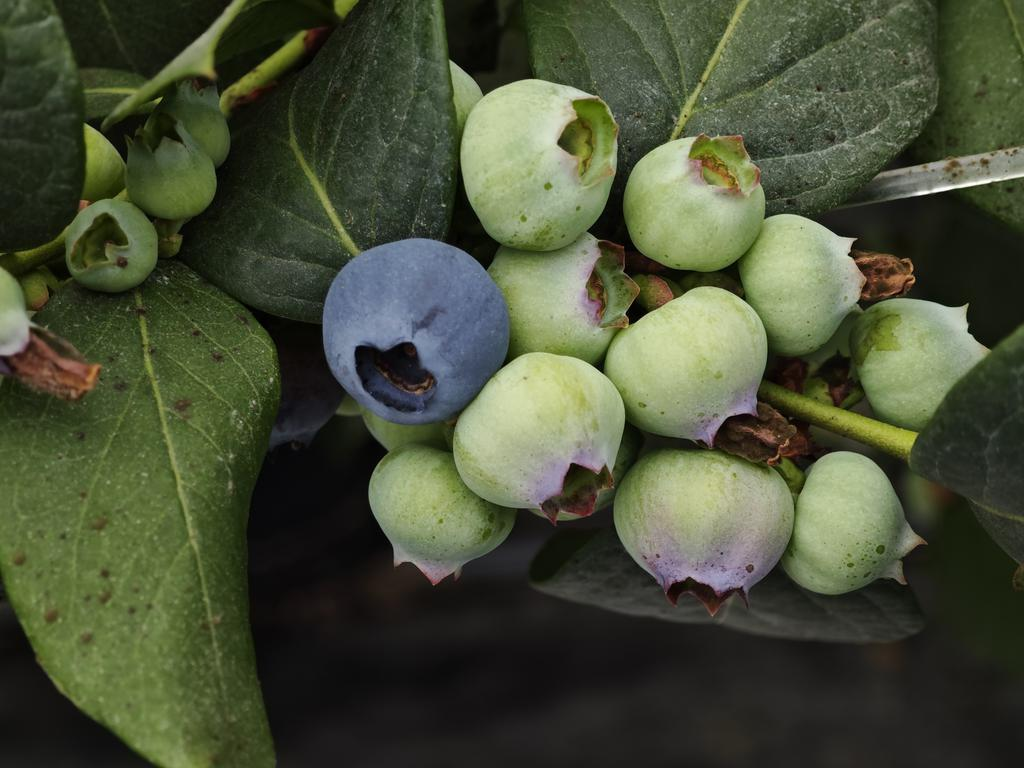RipeBlueBerry: (317, 235, 512, 428)
UnripeBlueBerry: (449, 349, 628, 525), (459, 77, 625, 255), (612, 449, 797, 608), (610, 280, 773, 447), (627, 128, 771, 275)
